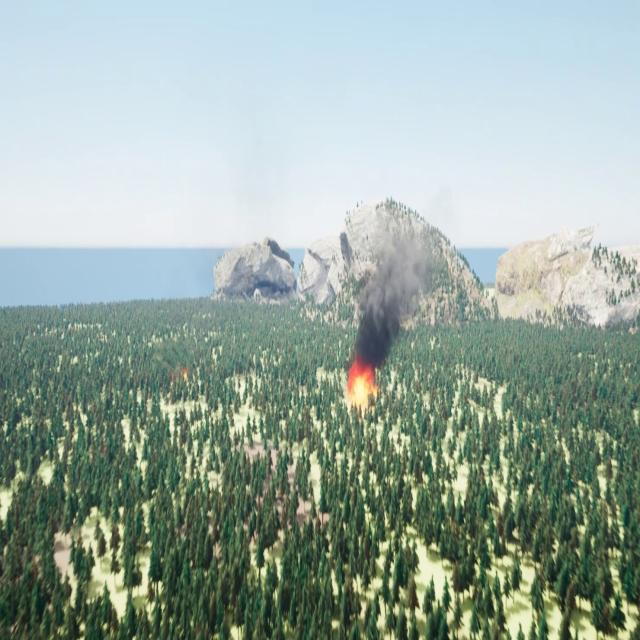fire: (344, 362, 380, 402), (168, 360, 190, 389)
smoke: (353, 213, 435, 355)
